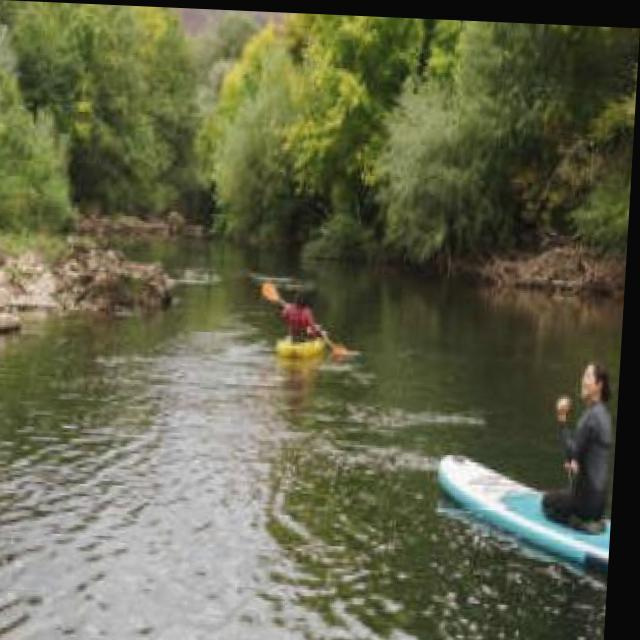kayak: (442, 451, 617, 569)
